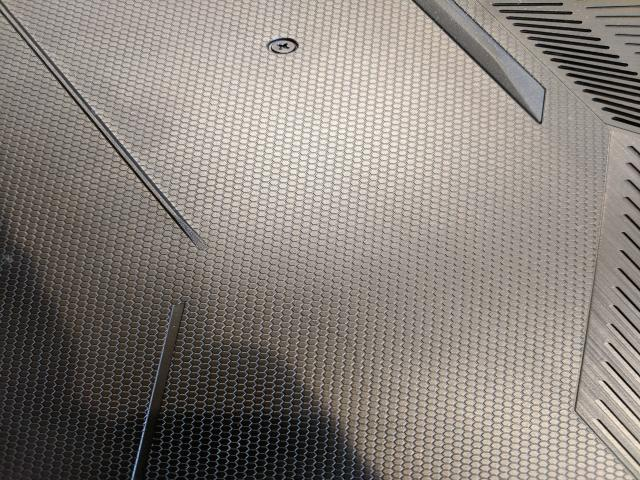CRS: (269, 40, 299, 54)
